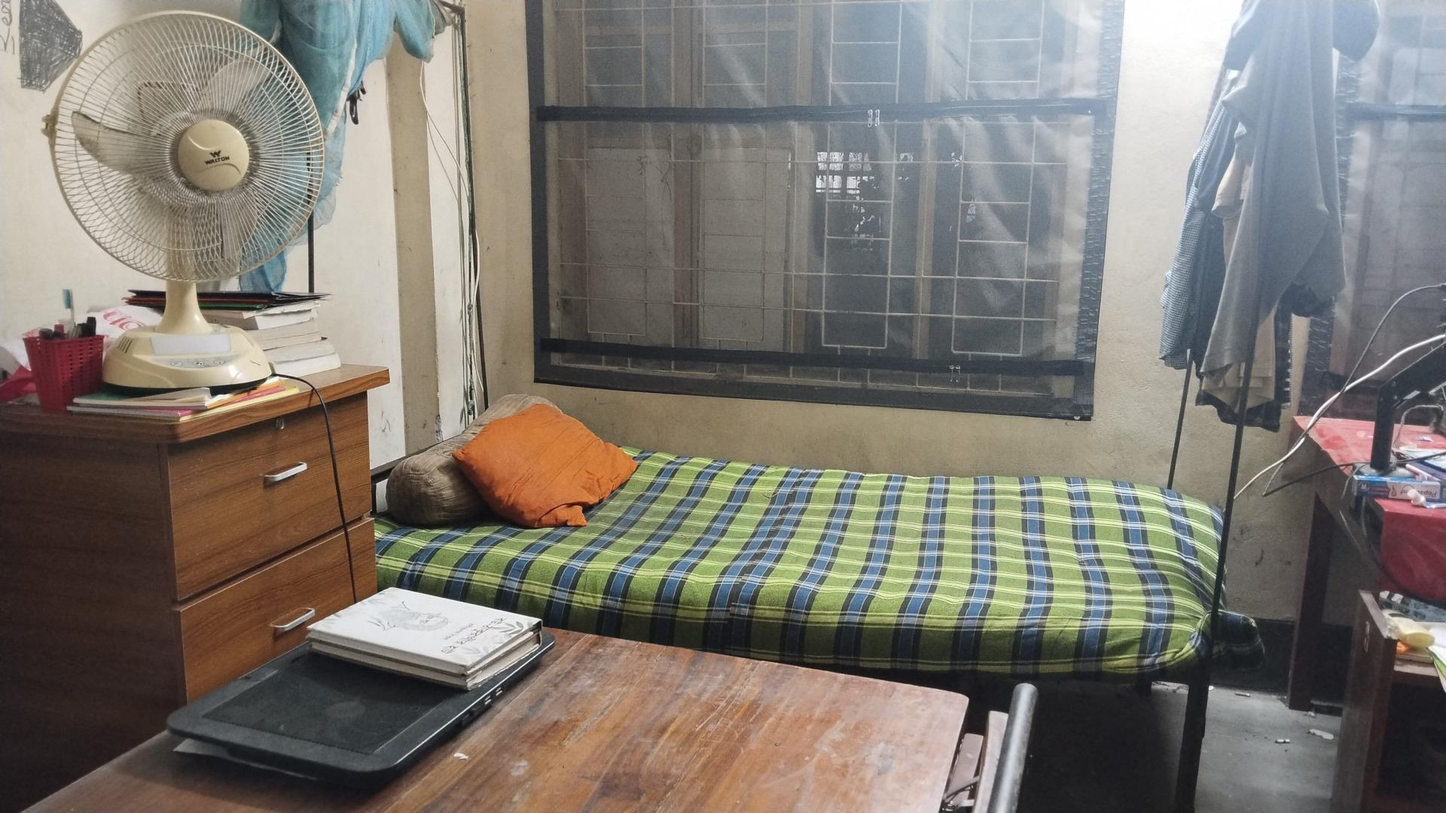Book: (307, 584, 544, 689)
Fan: (53, 13, 324, 385)
Pillow: (452, 405, 637, 527)
Window: (927, 1, 1066, 387), (540, 0, 683, 357), (801, 2, 924, 378), (684, 1, 800, 367)
